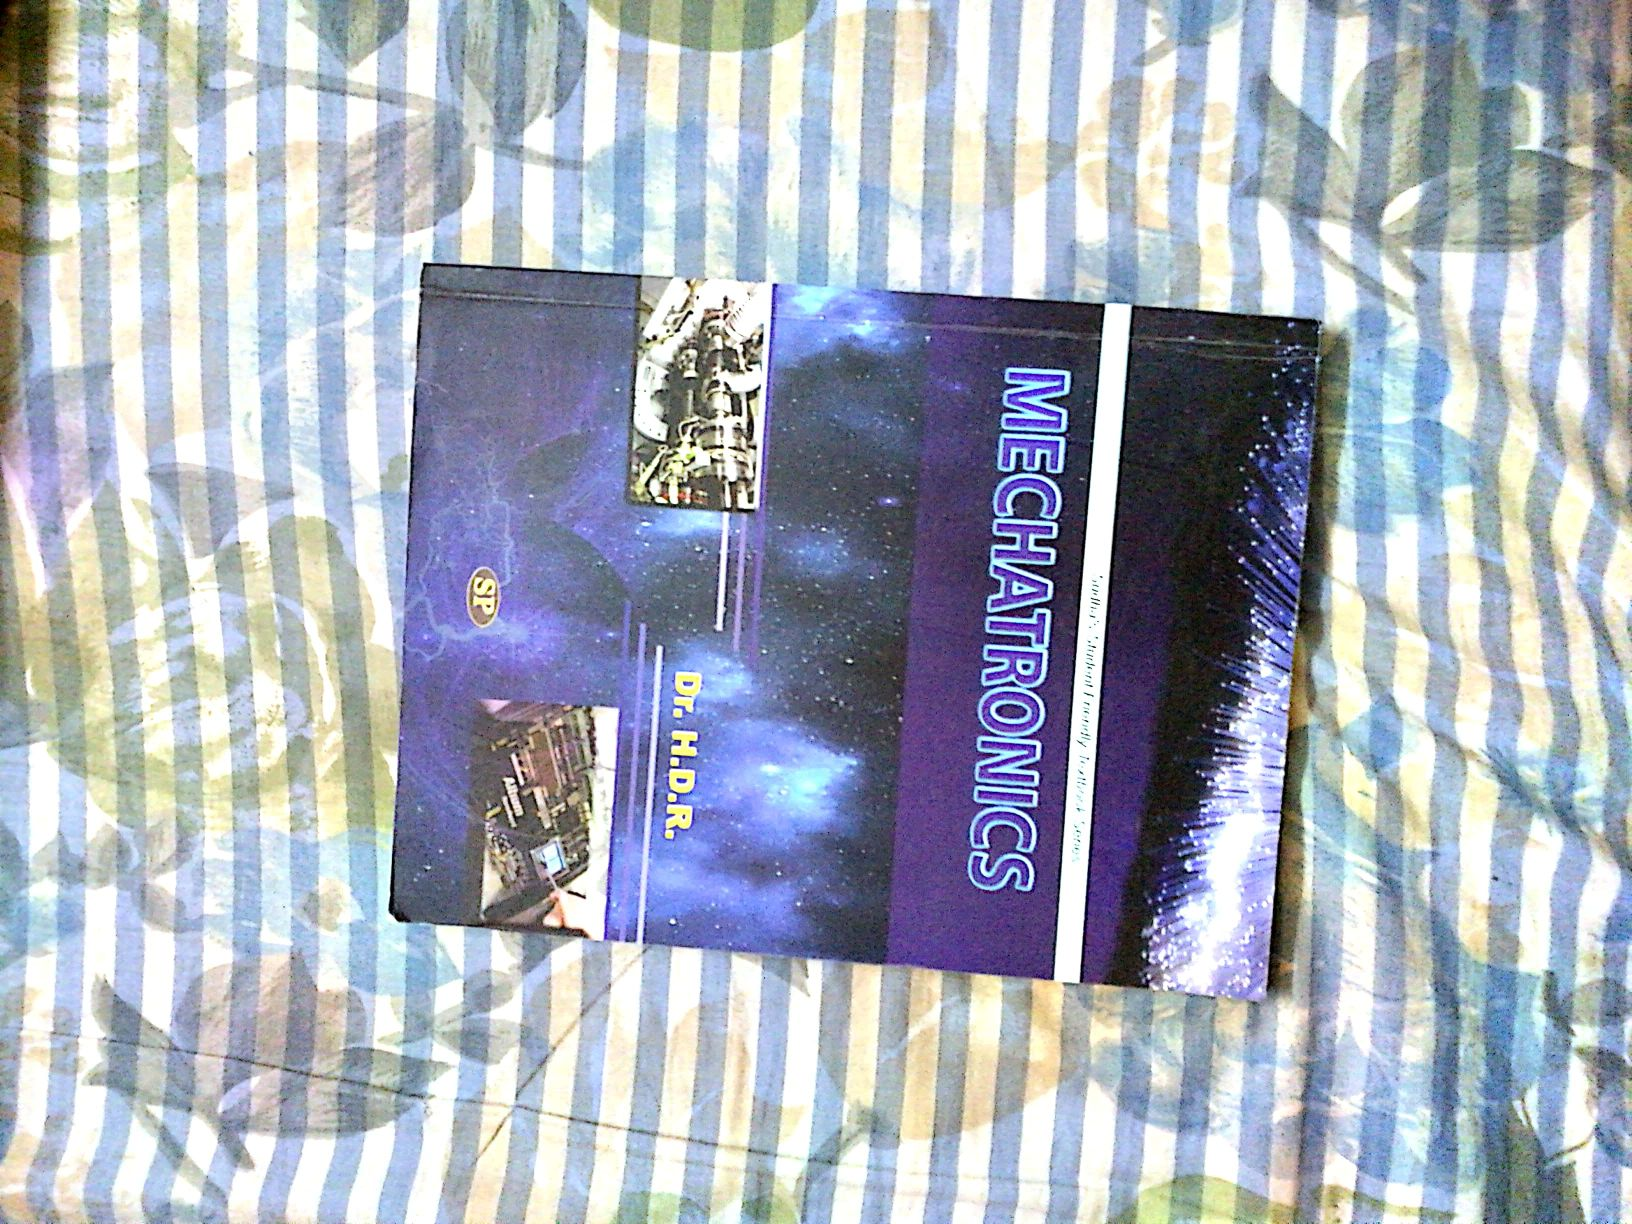mechatronics: (350, 228, 1361, 1047)
